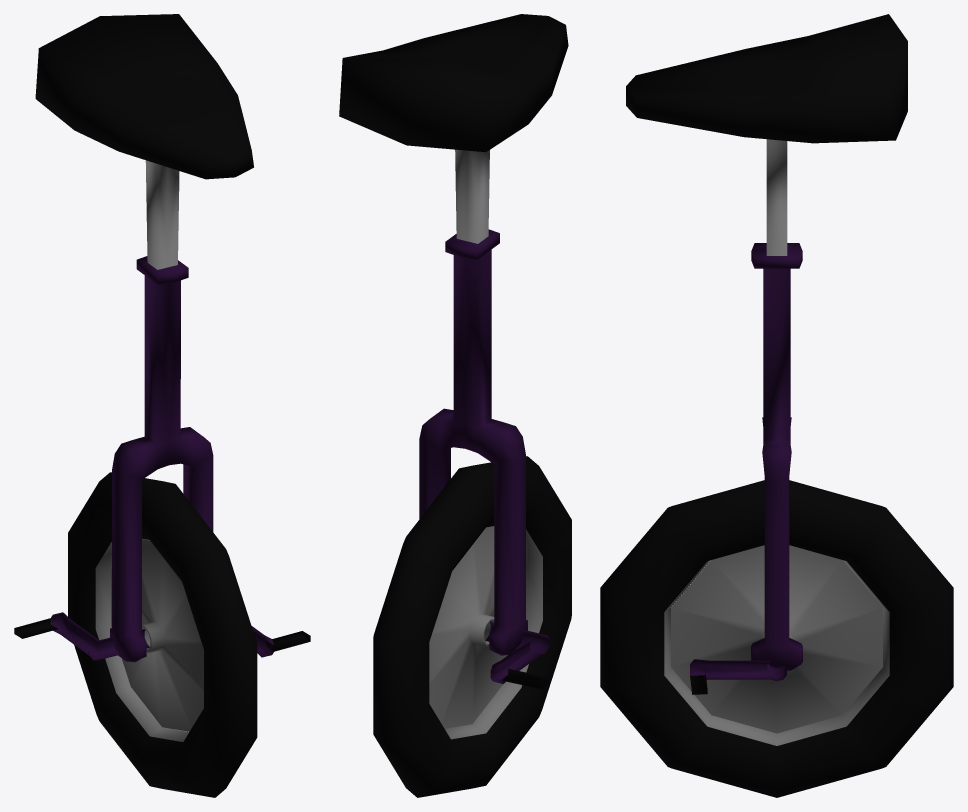
File: Unicycle Asset.fbx
3 views of the same model, side by side, from view 1: azimuth 30°, elevation 25°; view 2: azimuth 150°, elevation 25°; view 3: azimuth 270°, elevation 25° (orthographic). The views are drawn at different scales.
Parts seen in each view (by area): view 1: Seat and Pole, Wheel and Pedal; view 2: Wheel and Pedal, Seat and Pole; view 3: Wheel and Pedal, Seat and Pole.
Boxes of the visible parts, <box> form: Seat and Pole: <box>35,14,253,662</box>; Wheel and Pedal: <box>14,472,310,797</box>; Wheel and Pedal: <box>373,456,571,797</box>; Seat and Pole: <box>339,14,568,655</box>; Wheel and Pedal: <box>600,480,953,797</box>; Seat and Pole: <box>626,14,907,670</box>.
Size of the model in its own units: 25.48 by 82.64 by 35.
